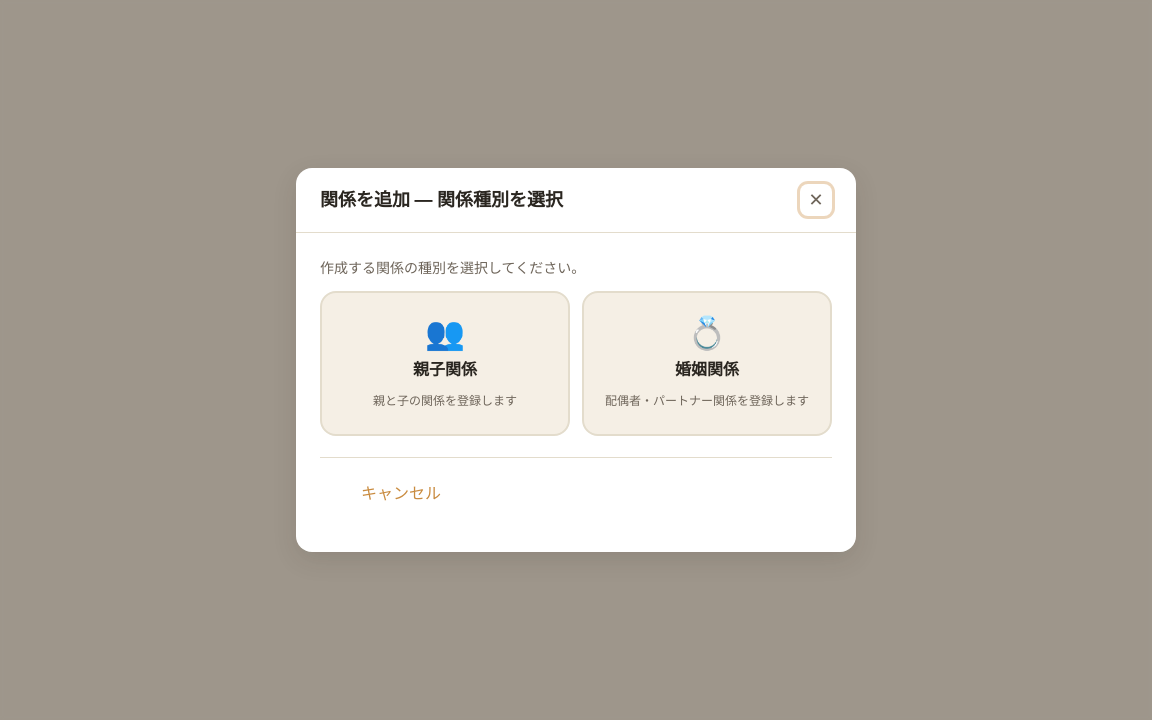
RelationDialog › ステップ遷移 › TC-03: 「親子関係」ボタンをクリックすると1人目選択ステップに進む
The image size is (1152, 720).
Click the button "👥 親子関係 親と子の関係を登録します": (445, 364) [320,291,570,436]
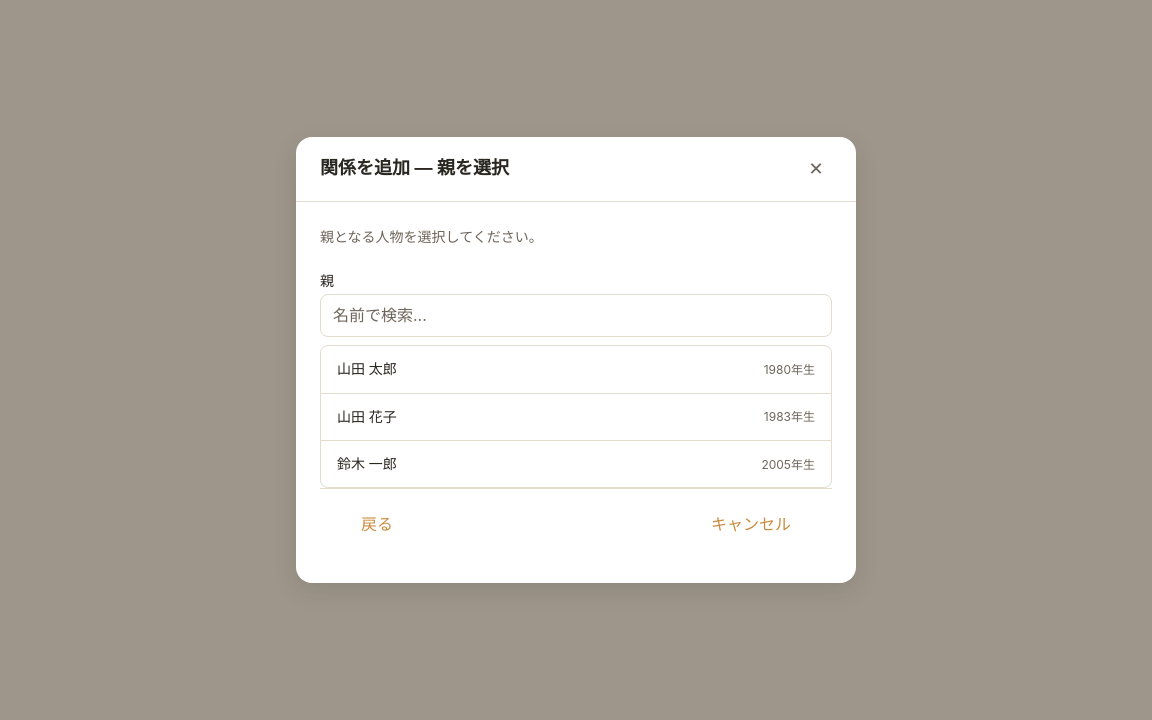
Check: the text "親となる人物を選択してください。" is shown, box [320,228,543,245]
